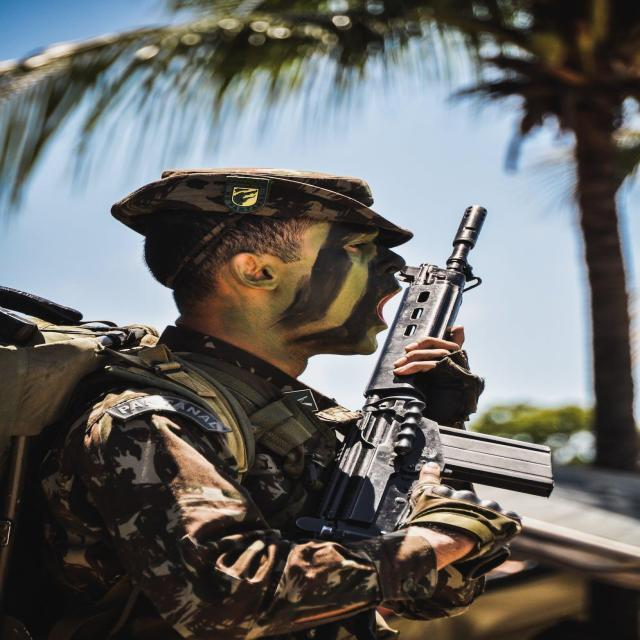Rifle: (288, 204, 557, 543)
